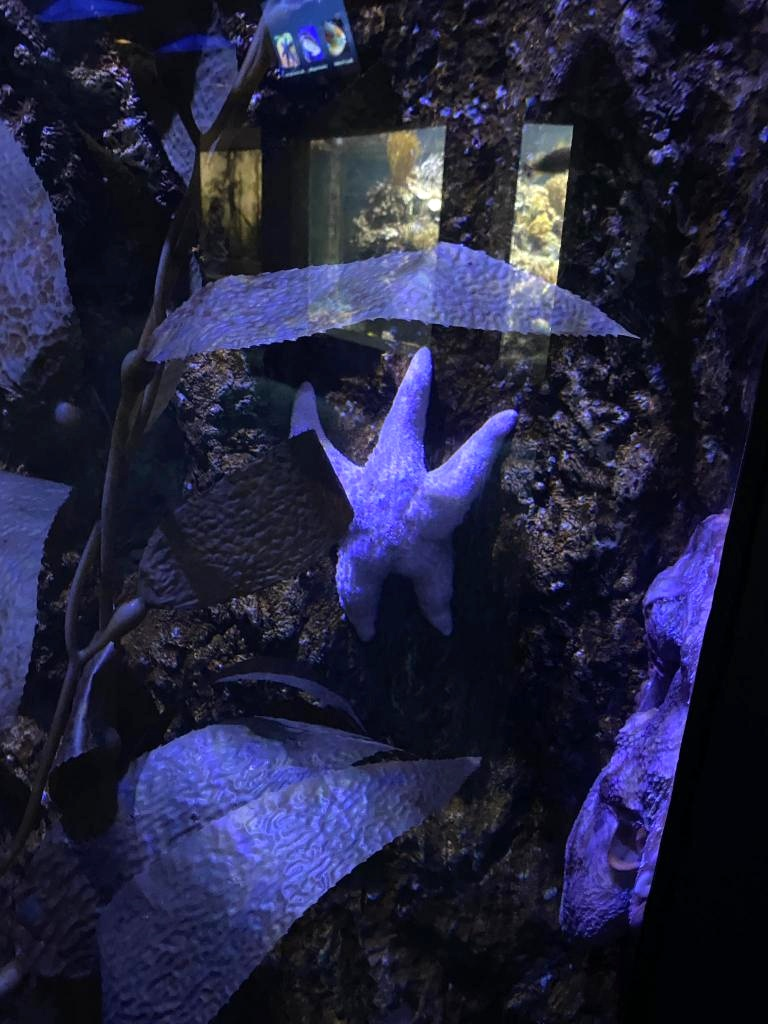starfish: (291, 342, 519, 640)
